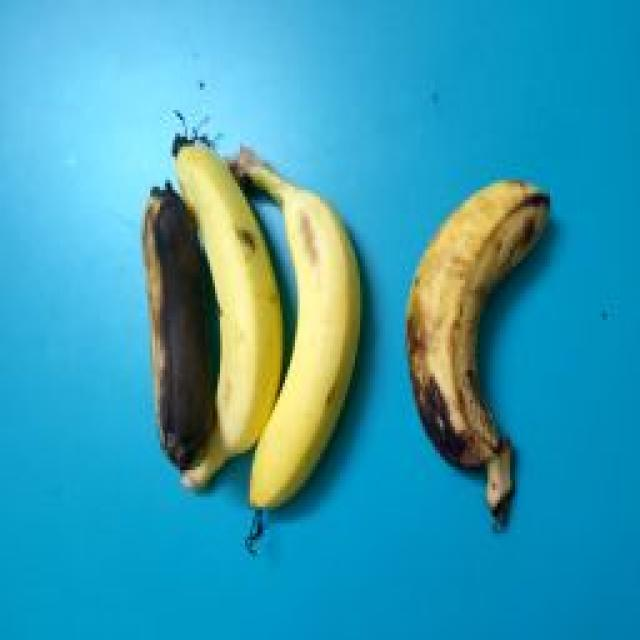Organik: (410, 149, 558, 508), (242, 130, 369, 534), (165, 123, 286, 511), (108, 174, 222, 474)
